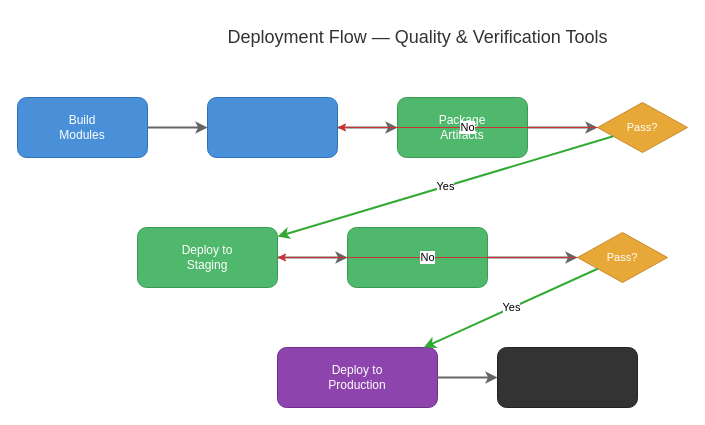
This 705x425 diagram has some shape labels left out. Each missing label, with the centre of its shape:
"Integration Tests" belongs at (417,257).
"Monitor Health" belongs at (567,377).
"Run Unit Tests" belongs at (272,127).
